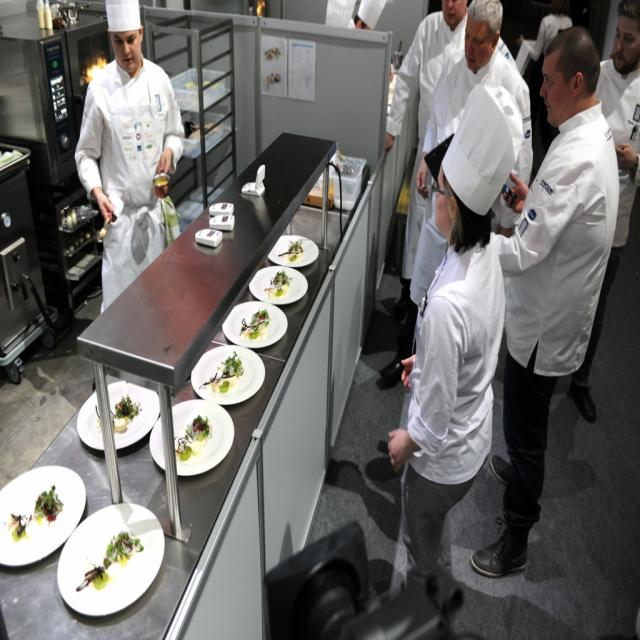non-organic waste: (61, 496, 171, 618), (3, 466, 111, 588), (74, 360, 155, 468)
